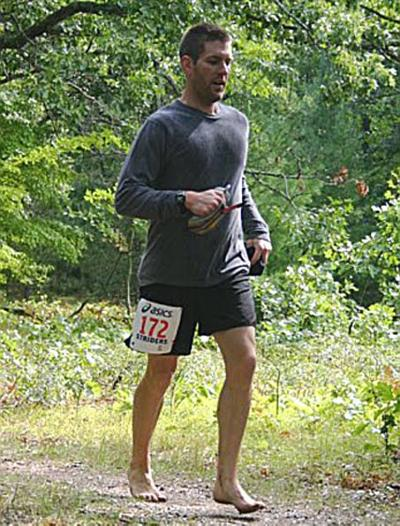person: (114, 17, 271, 514)
